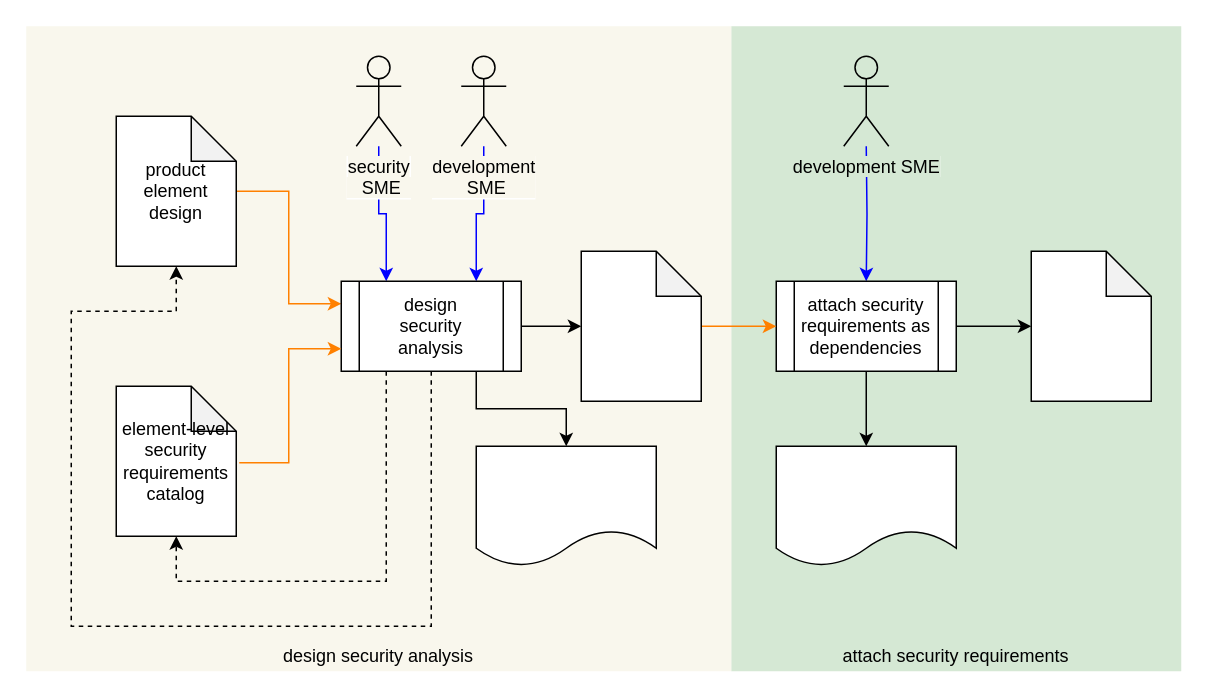
Image size: 1206x696. Some labels were removed from this diagram. The shapes that lost their labels are listed below. From the top down, each one's box as (x1, y1, x2, y2) in pixels, then its label:
(580, 250, 701, 401): identified security requirements
(1030, 250, 1151, 401): updated development requirements
(475, 445, 656, 566): design security analysis report
(775, 445, 956, 566): requirements report
